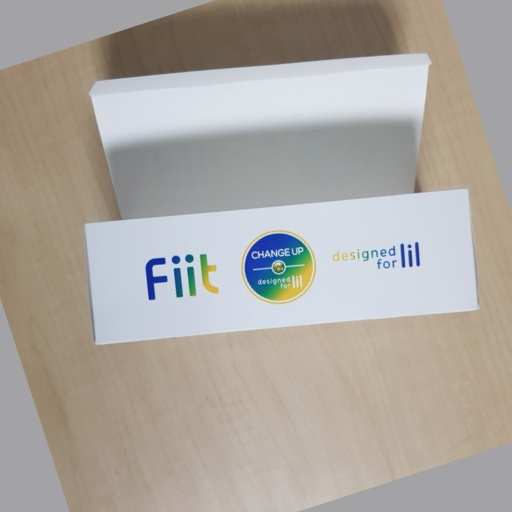Paper_0: (87, 54, 492, 342)
